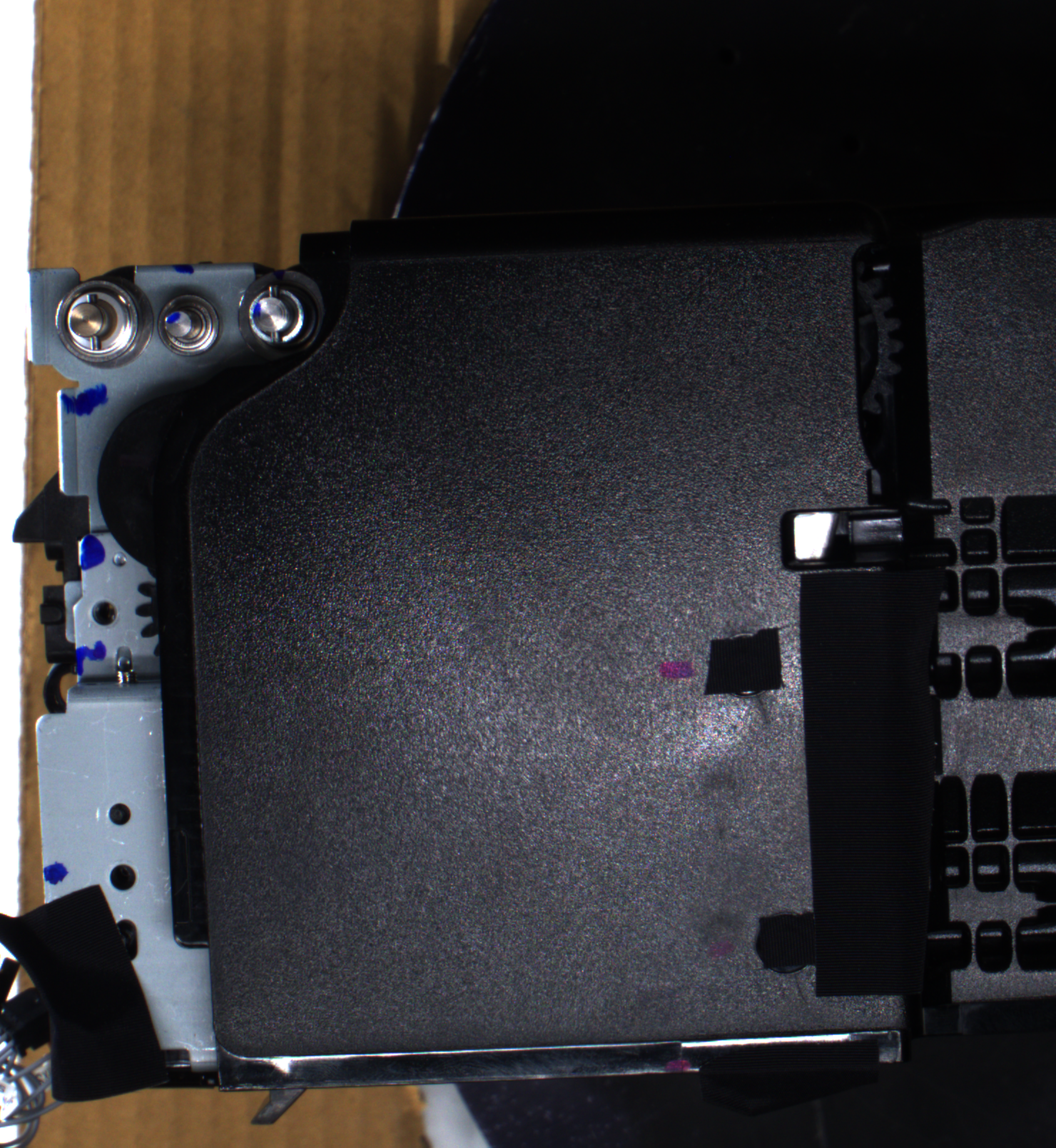gear1_absence: (52, 274, 155, 371)
gear2_absence: (151, 289, 224, 360)
gear3_absence: (233, 271, 326, 360)
side_screw_absence: (103, 857, 142, 898), (86, 596, 122, 631)
